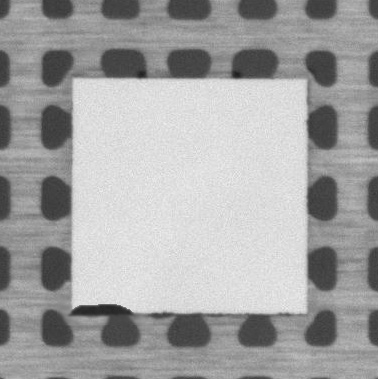DIE_BROKEN: (68, 301, 138, 316)
